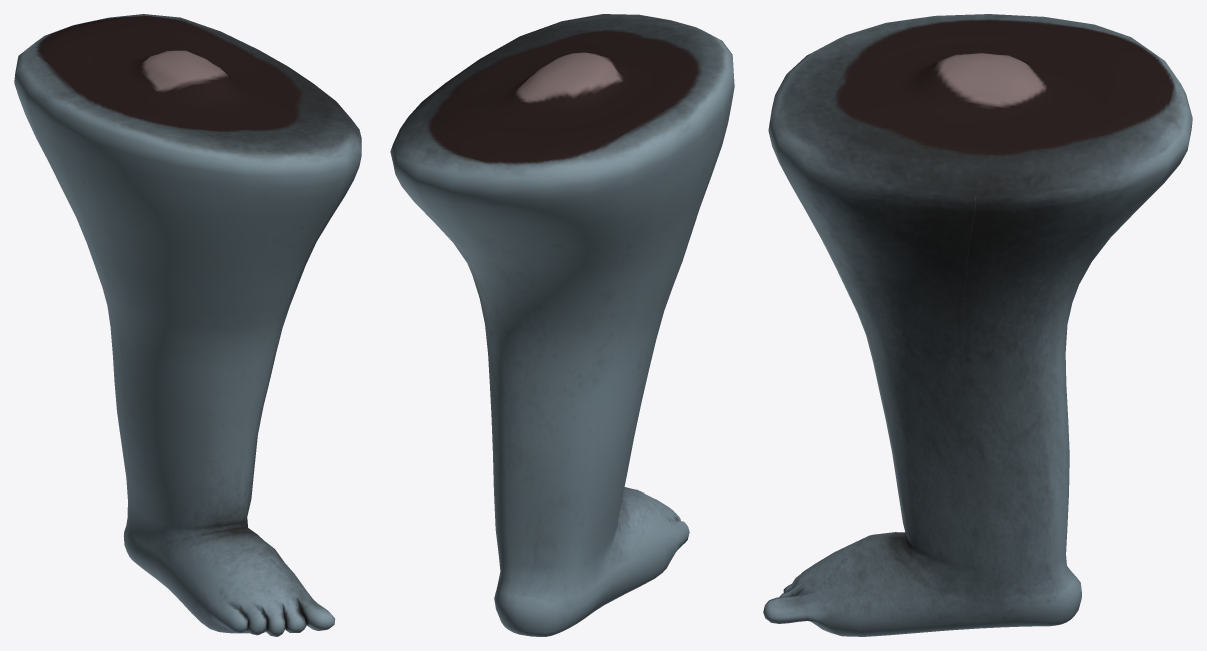
The model's file is b01_r_leg.fbx.
3 renders of one model, left to right at view 1: azimuth 30°, elevation 25°; view 2: azimuth 150°, elevation 25°; view 3: azimuth 270°, elevation 25°, orthographic. The views are drawn at different scales.
Parts seen in each view (by area): view 1: a01_r_leg; view 2: a01_r_leg; view 3: a01_r_leg.
Part boxes in pixels (<box>): a01_r_leg: <box>14,14,361,636</box>; a01_r_leg: <box>390,14,734,636</box>; a01_r_leg: <box>763,14,1192,636</box>.
Size of the model in its own units: 29.62 by 57.22 by 39.92.
1 material, 1 textured.
